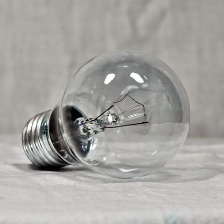light_bulb: (18, 43, 195, 183)
